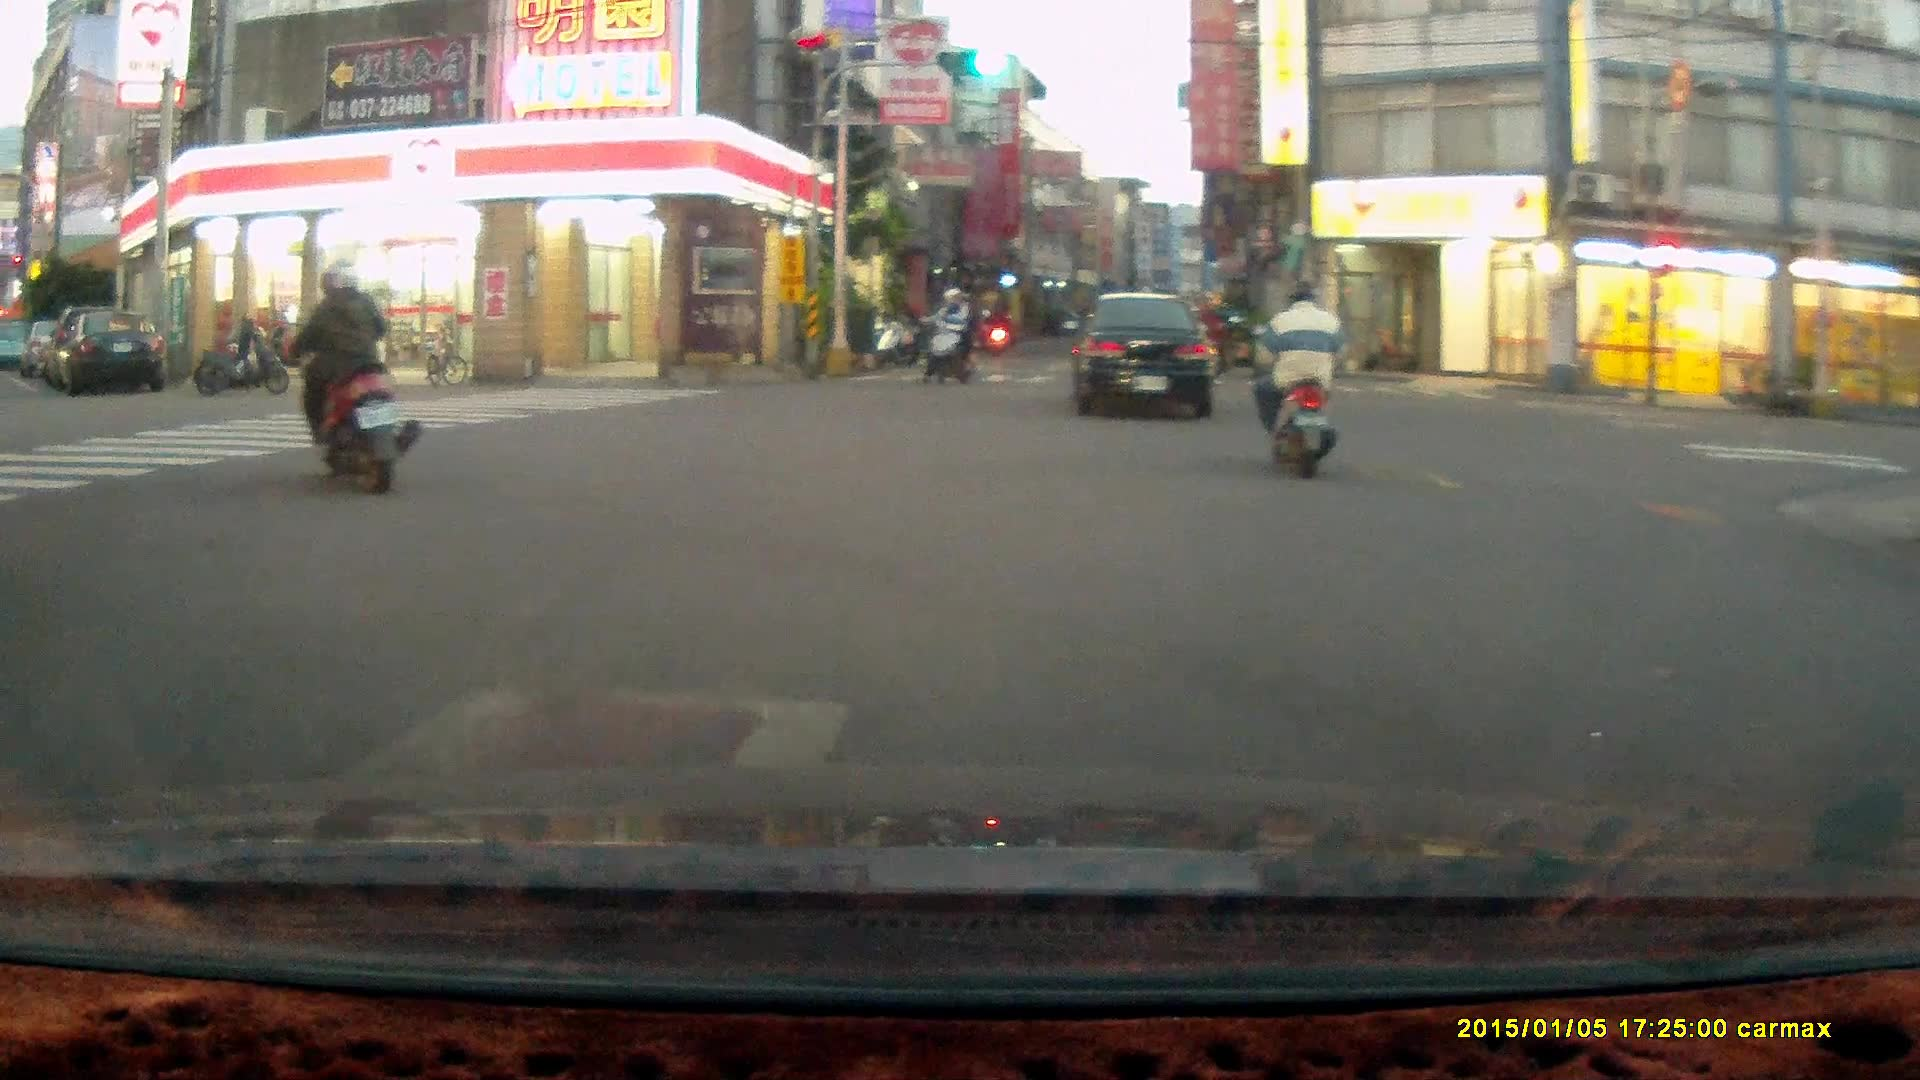rider: (279, 262, 422, 497), (1253, 279, 1343, 480), (919, 285, 977, 387), (1193, 293, 1229, 373)
vehicle: (1072, 289, 1220, 422), (68, 308, 174, 393)
